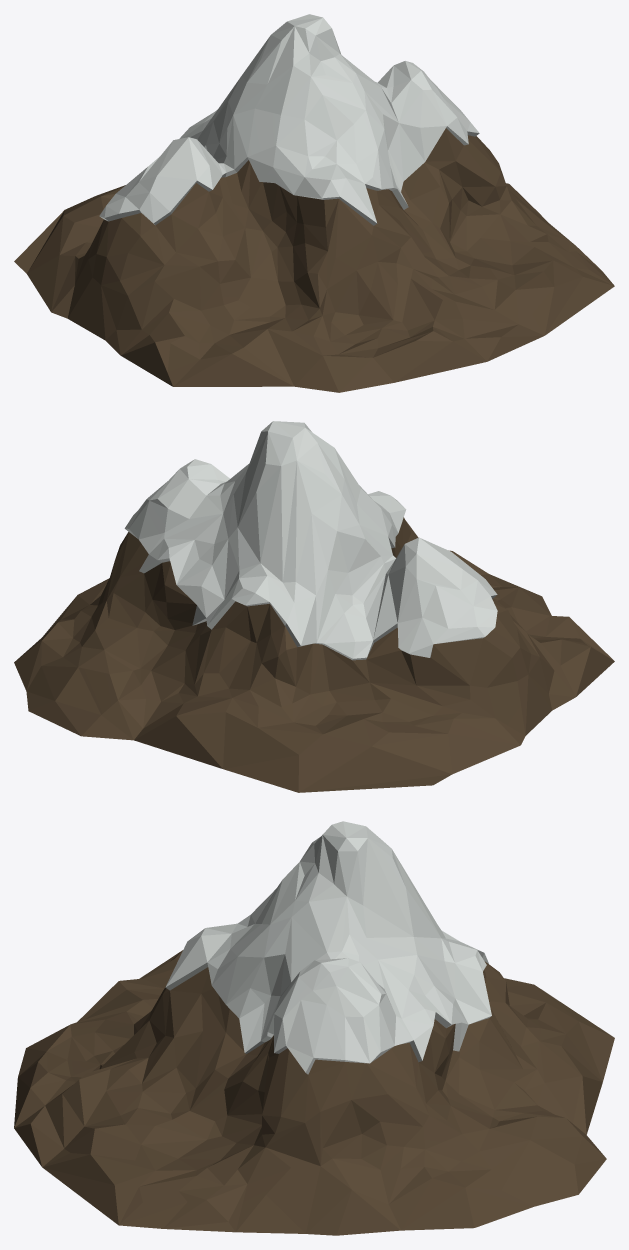
Rendered from SM_Env_HillSnow_04.gltf.
3 renders of one model, top to bottom at view 1: azimuth 30°, elevation 25°; view 2: azimuth 150°, elevation 25°; view 3: azimuth 270°, elevation 25°, orthographic. The views are drawn at different scales.
Visible parts, largest first — view 1: SM_Env_HillSnow_04; view 2: SM_Env_HillSnow_04; view 3: SM_Env_HillSnow_04.
Boxes of the visible parts, bbox=[...] form: SM_Env_HillSnow_04: bbox=[14, 14, 614, 392]; SM_Env_HillSnow_04: bbox=[14, 421, 614, 792]; SM_Env_HillSnow_04: bbox=[14, 821, 614, 1235].
Bounding box in the file's own units: 25.64 × 12.73 × 24.81.
1 material, 1 textured.
